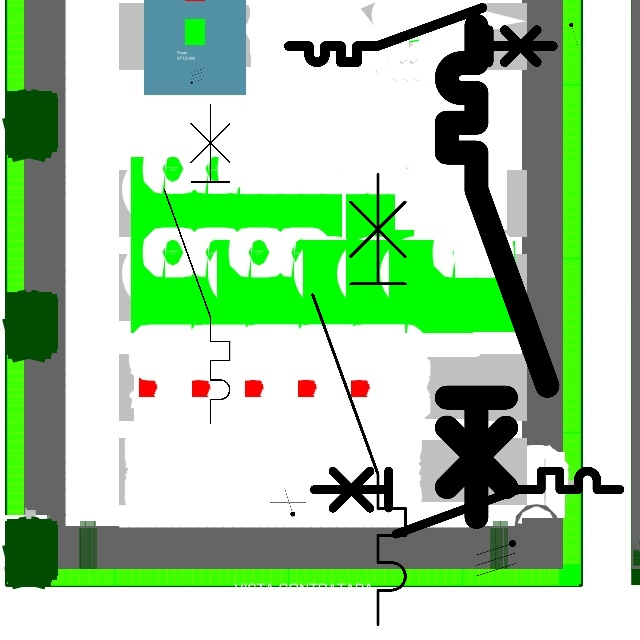interruptor_termomagnetico: (434, 13, 560, 530), (301, 163, 417, 636), (156, 96, 238, 432), (306, 463, 628, 541), (282, 1, 560, 69)
